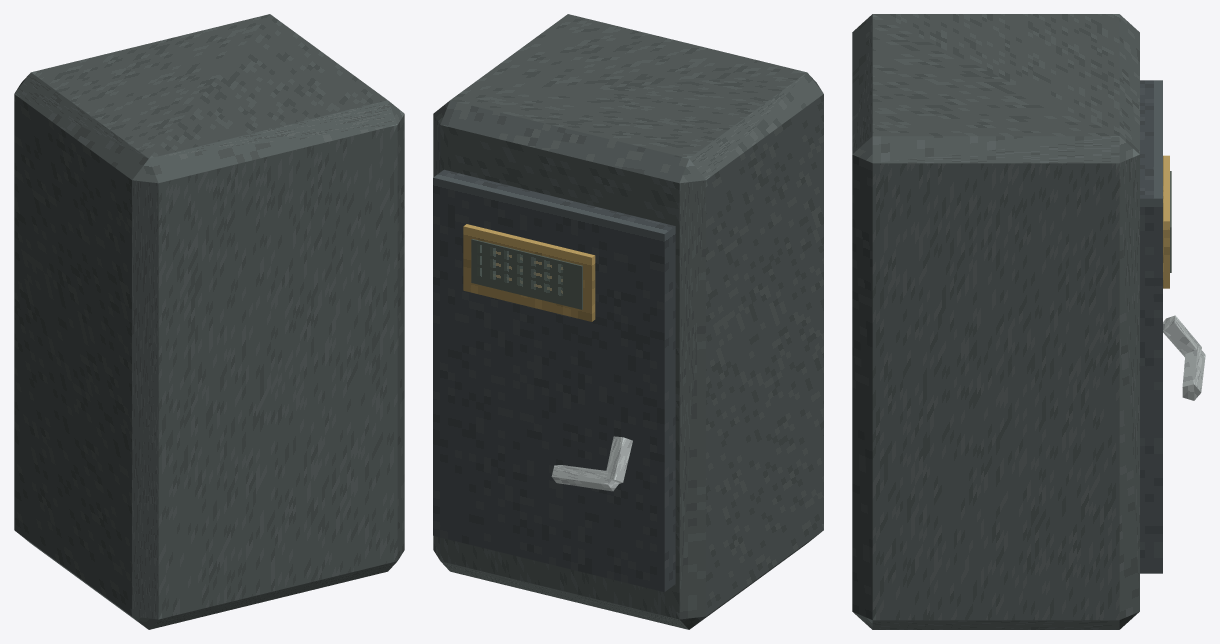
The model's file is f_string_dimension_housing.glb.
3 views of the same model, side by side, from view 1: azimuth 30°, elevation 25°; view 2: azimuth 150°, elevation 25°; view 3: azimuth 270°, elevation 25° (orthographic). The views are drawn at different scales.
Parts seen in each view (by area): view 1: block_dense-dimension-housing; view 2: block_dense-dimension-housing, block_armored-access-door, block_dark-otherworldly-engraving, block_thick-gold-plaque, block_heavy-door-lever-2, block_heavy-door-lever-1; view 3: block_dense-dimension-housing, block_armored-access-door, block_heavy-door-lever-2, block_thick-gold-plaque, block_heavy-door-lever-1.
Boxes of the visible parts, x1,y1,x2,y2 form: block_dense-dimension-housing: (14, 14, 404, 629); block_dense-dimension-housing: (433, 14, 823, 629); block_armored-access-door: (433, 169, 675, 591); block_dark-otherworldly-engraving: (471, 239, 582, 309); block_thick-gold-plaque: (463, 224, 595, 321); block_heavy-door-lever-2: (551, 465, 618, 491); block_heavy-door-lever-1: (606, 436, 632, 483); block_dense-dimension-housing: (852, 14, 1139, 629); block_armored-access-door: (1140, 80, 1162, 573); block_heavy-door-lever-2: (1182, 346, 1205, 400); block_thick-gold-plaque: (1163, 155, 1169, 288); block_heavy-door-lever-1: (1163, 315, 1201, 356).
Size of the model in its own units: 0.781 by 1.29 by 0.837.
Materials: 1 (1 with a texture image).
